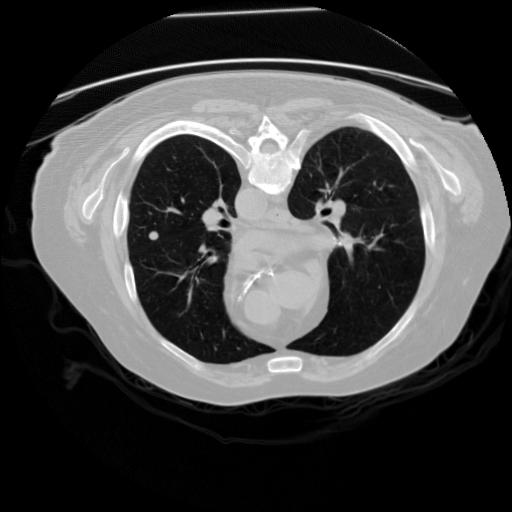nodule: (148, 229, 164, 245)
